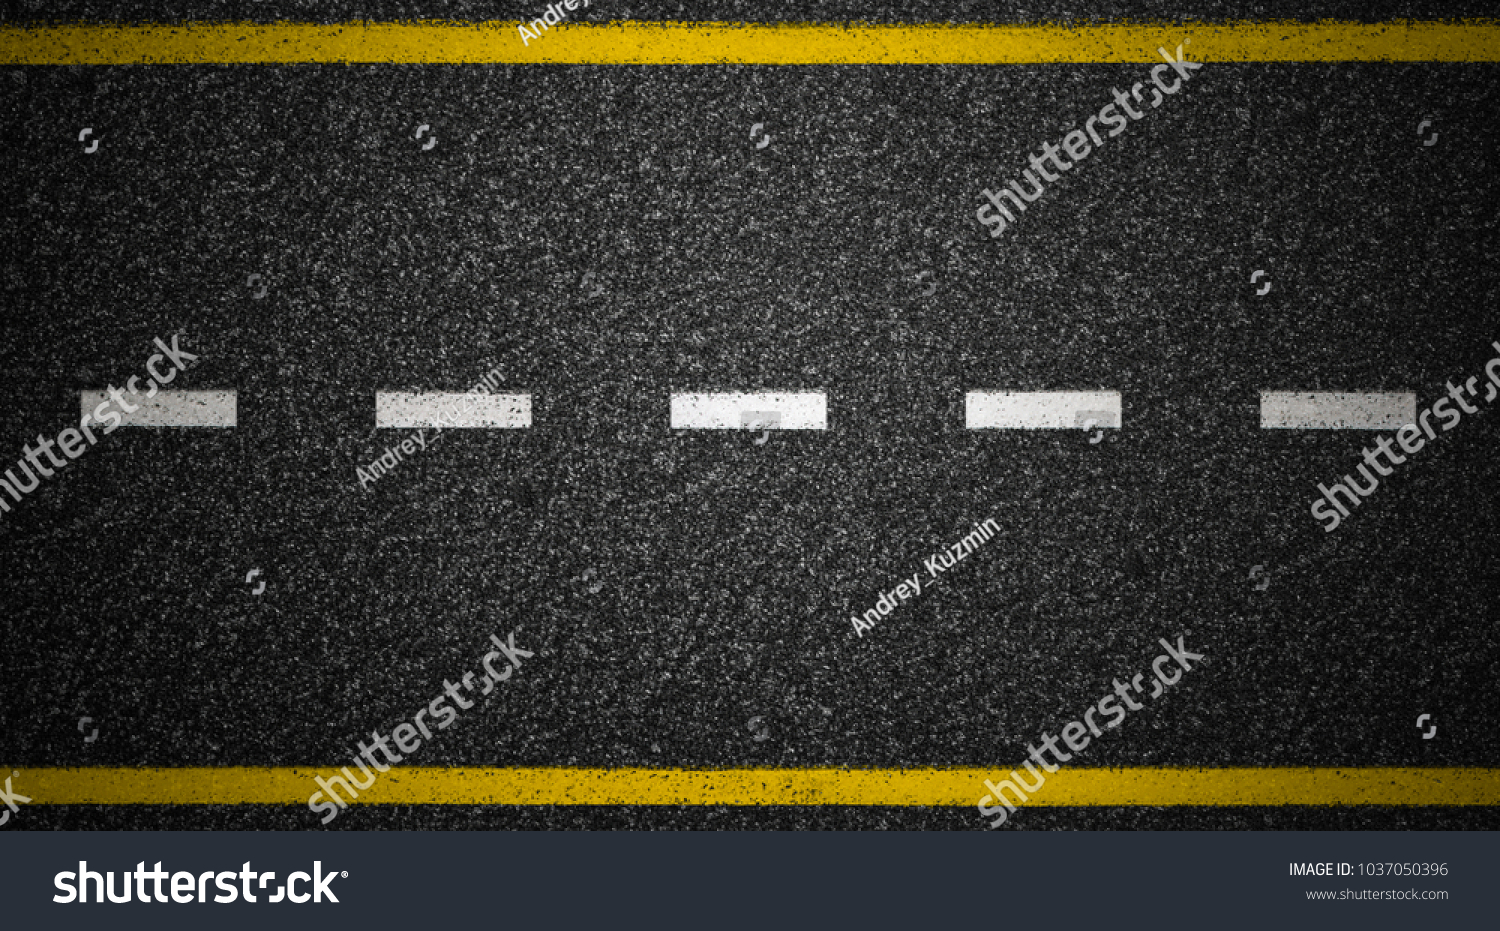LaneMark: (1258, 384, 1417, 437), (373, 388, 533, 433), (963, 387, 1126, 431), (78, 387, 237, 429), (669, 391, 831, 431)
